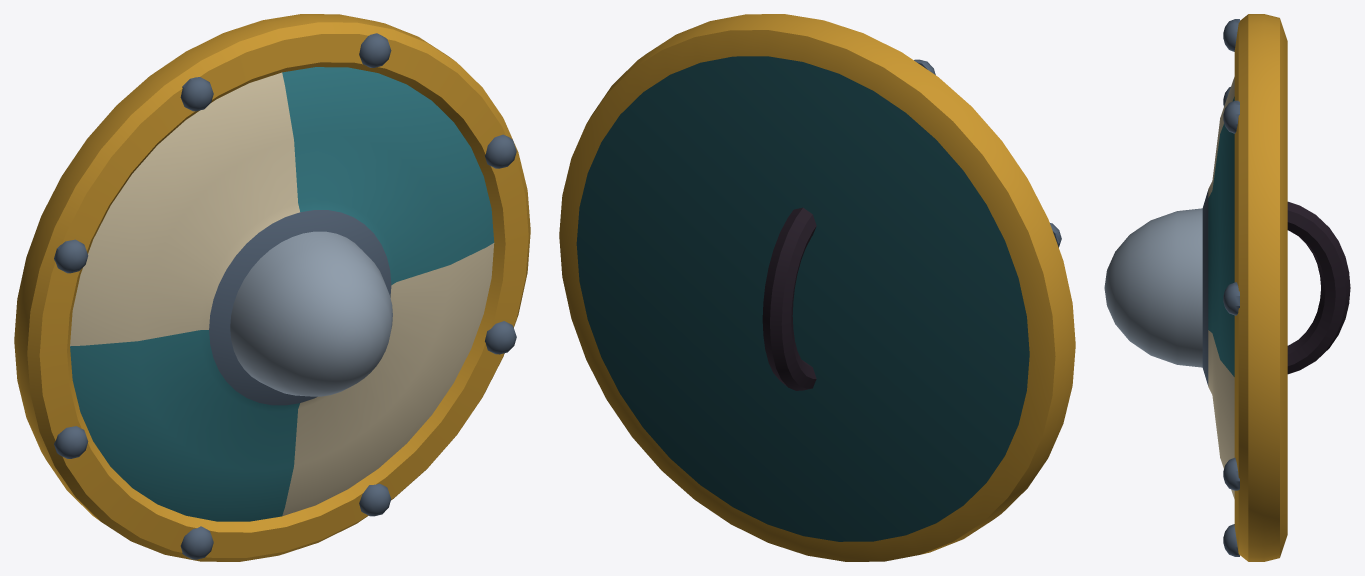
The model's file is RoundShield_04.glb.
3 renders of one model, left to right at view 1: azimuth 30°, elevation 25°; view 2: azimuth 150°, elevation 25°; view 3: azimuth 270°, elevation 25°, orthographic. The views are drawn at different scales.
Visible parts, largest first — view 1: RoundShield_04; view 2: RoundShield_04; view 3: RoundShield_04.
Part boxes in pixels (x1,y1,x2,y2): RoundShield_04: (14, 14, 530, 561); RoundShield_04: (559, 14, 1075, 561); RoundShield_04: (1104, 14, 1350, 561).
Bounding box in the file's own units: 2.79 × 2.79 × 1.25.
